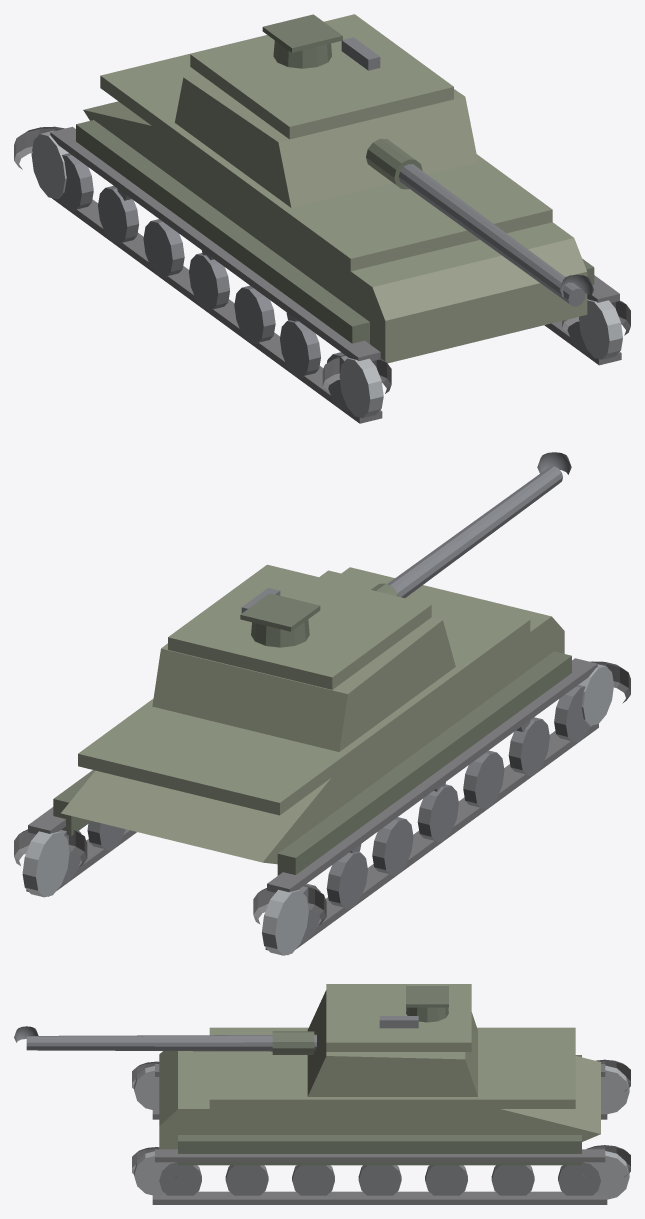
The model's file is main-battle-tank.glb.
3 renders of one model, top to bottom at view 1: azimuth 30°, elevation 25°; view 2: azimuth 150°, elevation 25°; view 3: azimuth 270°, elevation 25°, orthographic. The views are drawn at different scales.
Visible parts, largest first — view 1: main-battle-tank, turret (×3); view 2: main-battle-tank, turret (×3); view 3: main-battle-tank, turret (×3).
Boxes of the visible parts, box(x1,y1,x2,y2) form: main-battle-tank: box(14, 35, 630, 423); turret (×3): box(175, 14, 593, 306); main-battle-tank: box(14, 567, 630, 955); turret (×3): box(152, 452, 571, 751); main-battle-tank: box(132, 1027, 630, 1204); turret (×3): box(14, 984, 477, 1096).
Size of the model in its own units: 4.05 by 2.85 by 9.77.
